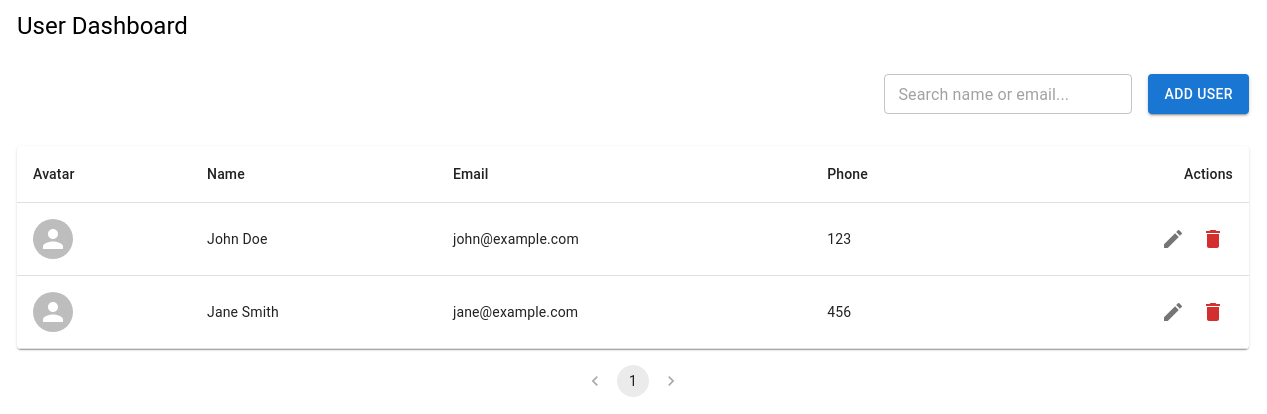
Test: UserList Component › fungsi pencarian harus menyaring daftar user
The width and height of the screenshot is (1267, 414).
Type "Jane" into the field with placeholder "Search name or email...".
click(1008, 94); type("Jane")  # box [884,74,1132,114]
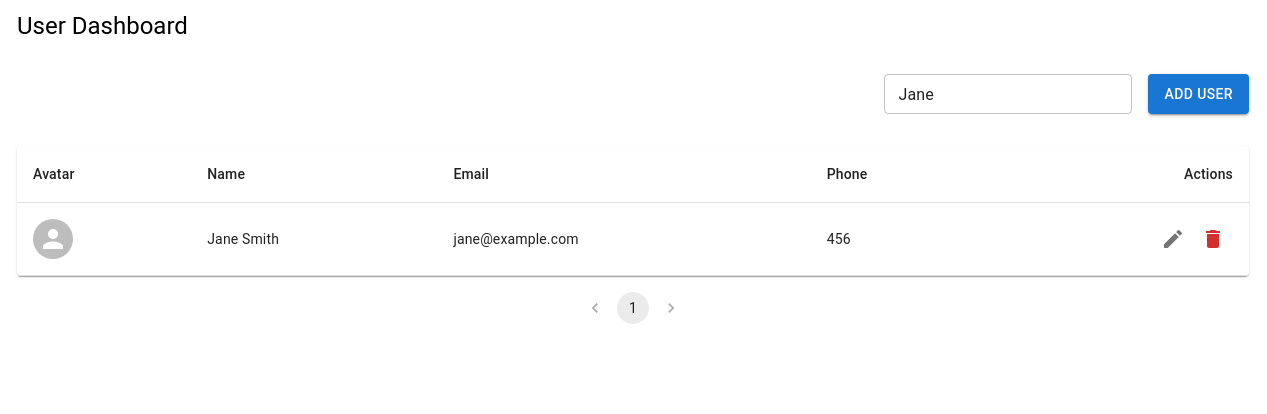
Expected: the text "Jane Smith" is shown, [191,202,438,276]
Now the text "John Doe" is gone
